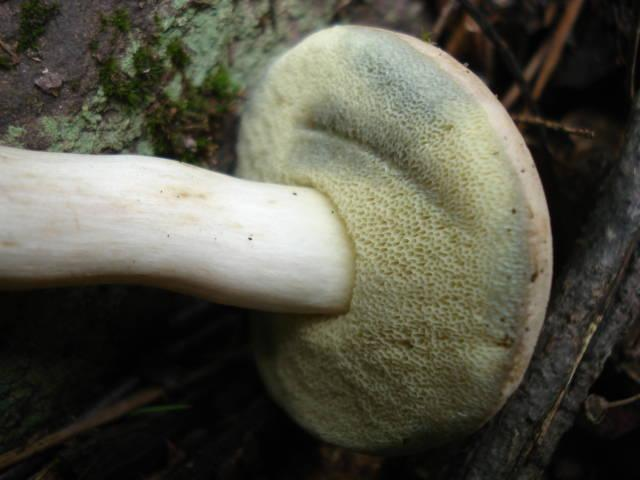Edible Mushroom: (0, 22, 555, 454)
